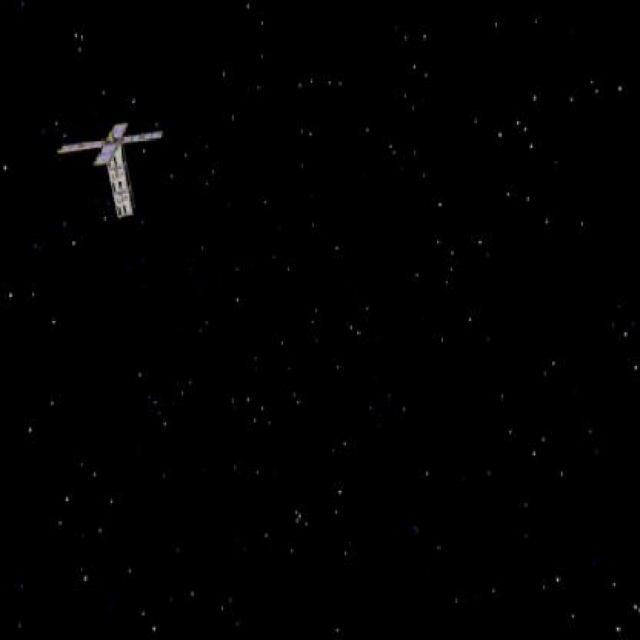satellite: (58, 112, 179, 219)
